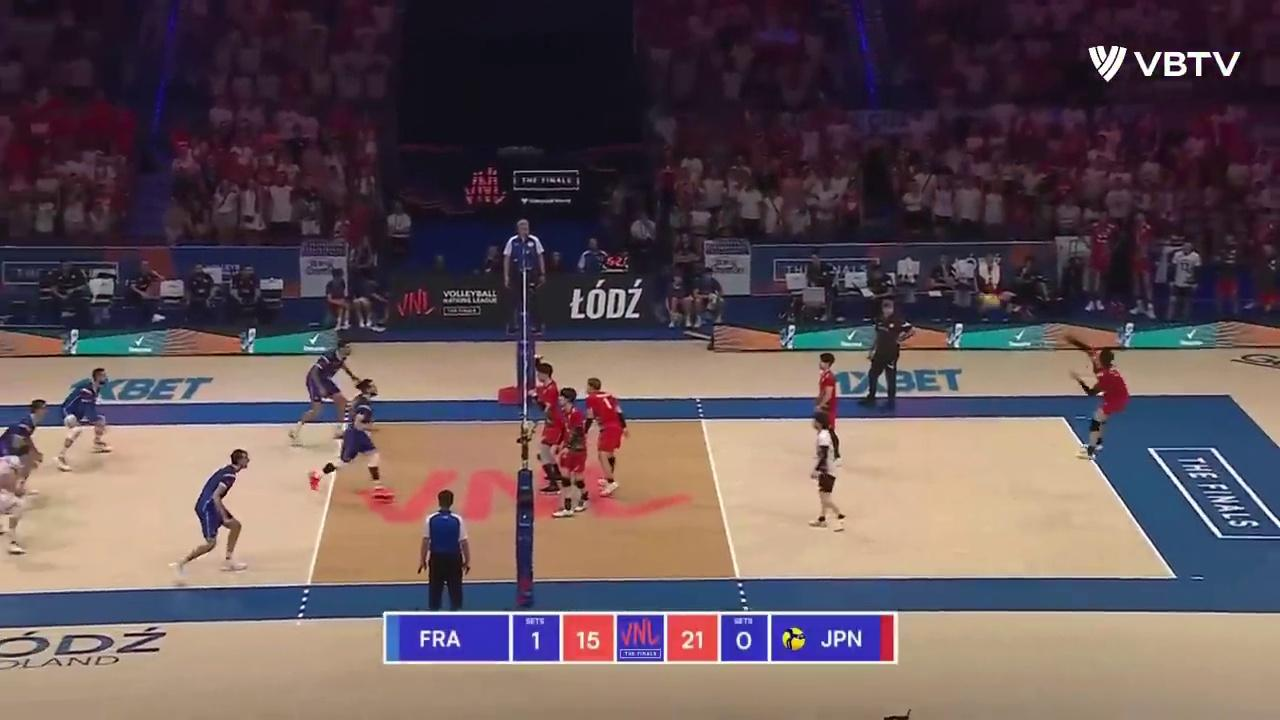ball: (980, 294, 1000, 311)
